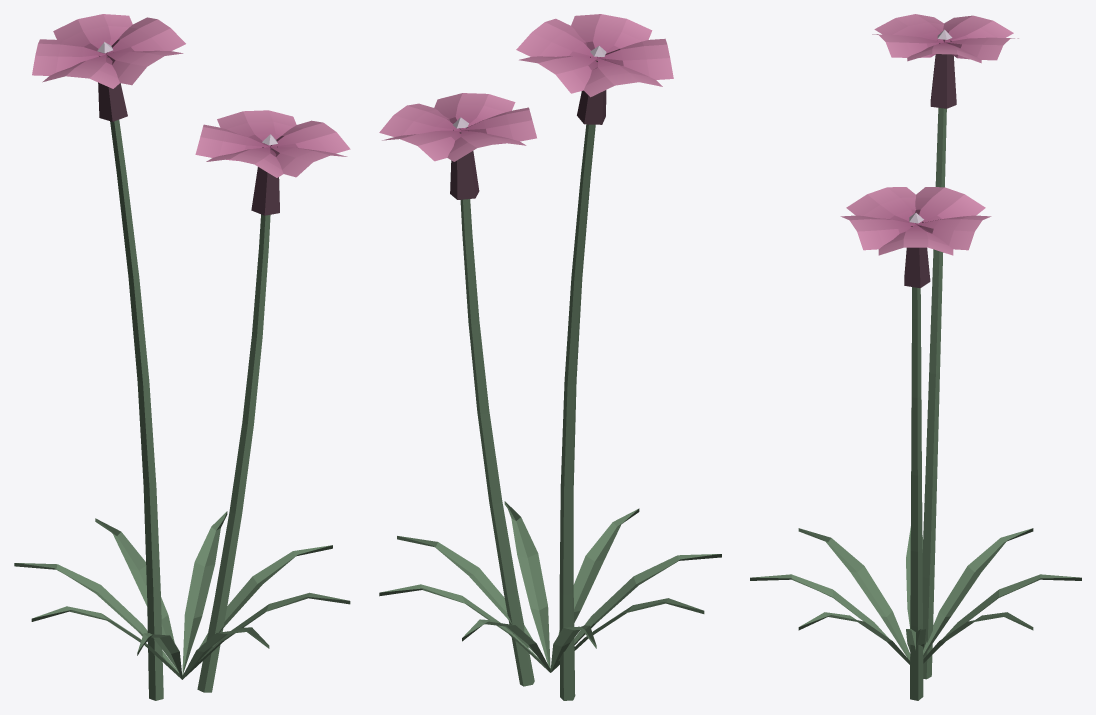
Rendered from gozdzik-wczesny.glb.
3 views of the same model, side by side, from view 1: azimuth 30°, elevation 25°; view 2: azimuth 150°, elevation 25°; view 3: azimuth 270°, elevation 25° (orthographic). The views are drawn at different scales.
Parts seen in each view (by area): view 1: gozdzik-wczesny; view 2: gozdzik-wczesny; view 3: gozdzik-wczesny.
Boxes of the visible parts, x1,y1,x2,y2 form: gozdzik-wczesny: (14, 14, 350, 700); gozdzik-wczesny: (379, 14, 721, 700); gozdzik-wczesny: (750, 14, 1081, 700).
Size of the model in its own units: 0.0832 by 0.1682 by 0.08.
